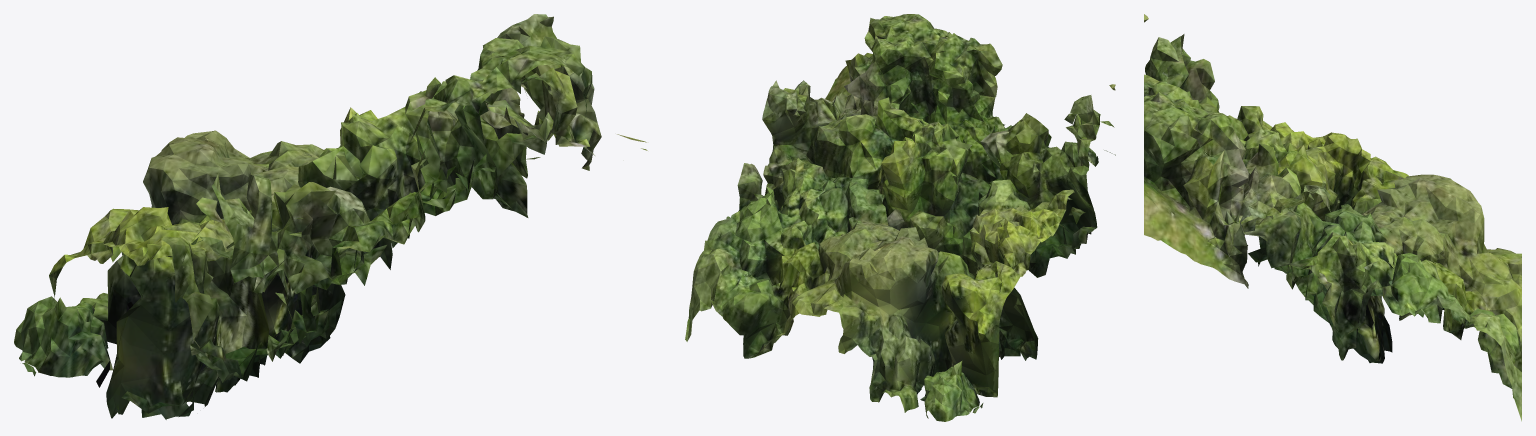
The picture shows the model from 3 angles, left to right: view 1: azimuth 30°, elevation 25°; view 2: azimuth 150°, elevation 25°; view 3: azimuth 270°, elevation 25°; orthographic projection. The views are drawn at different scales.
Size of the model in its own units: 52.22 by 45.72 by 52.22.
Materials: 7 (7 with a texture image).
